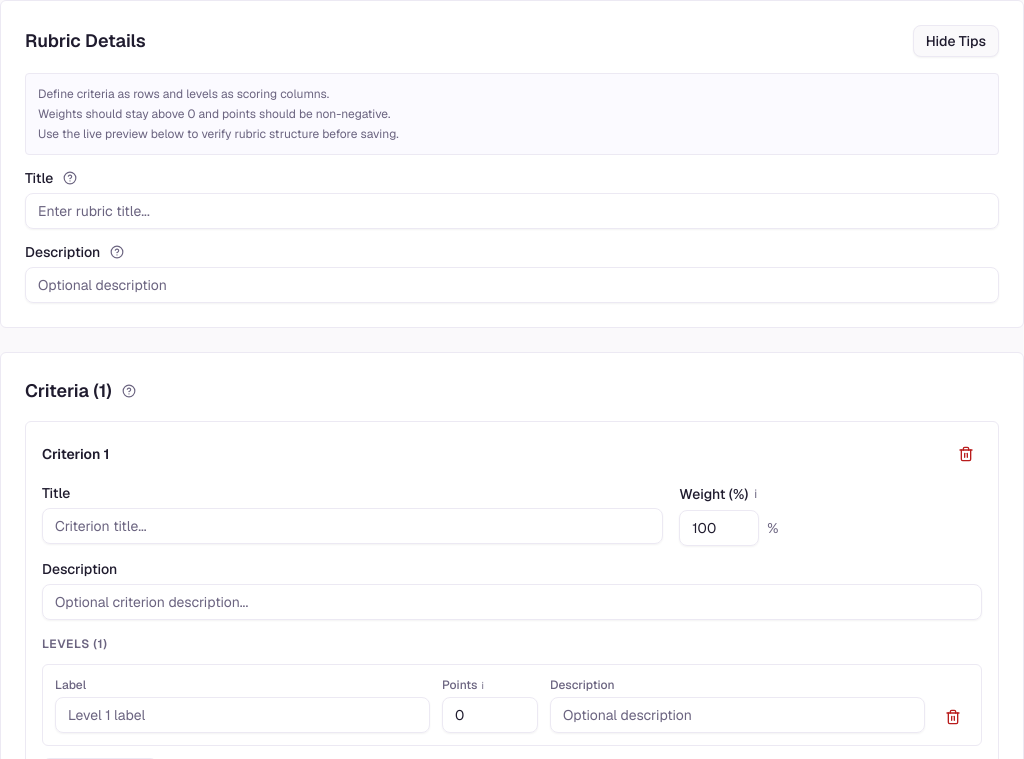
Test: RubricBuilderForm › create mode › validates that at least one criterion exists
The image size is (1024, 759).
Type "My Rubric" into the field labelled "Title" at (512, 211), box left=25, top=193, right=999, bottom=229
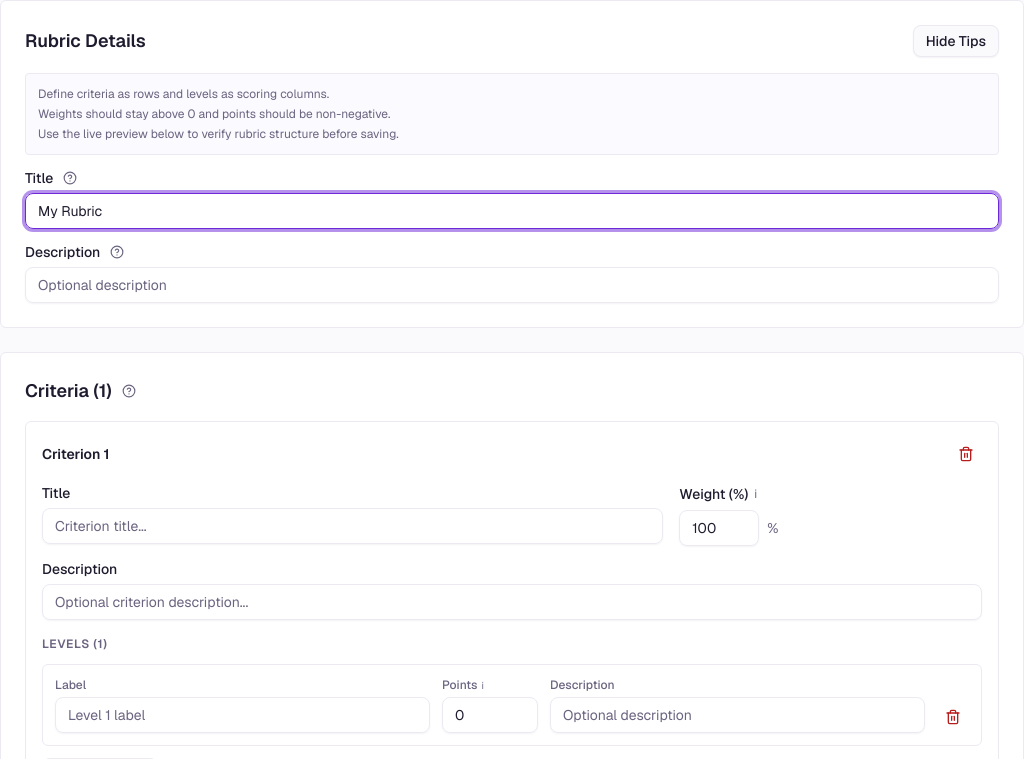
Click the 5th button at (966, 454), box left=950, top=438, right=982, bottom=470
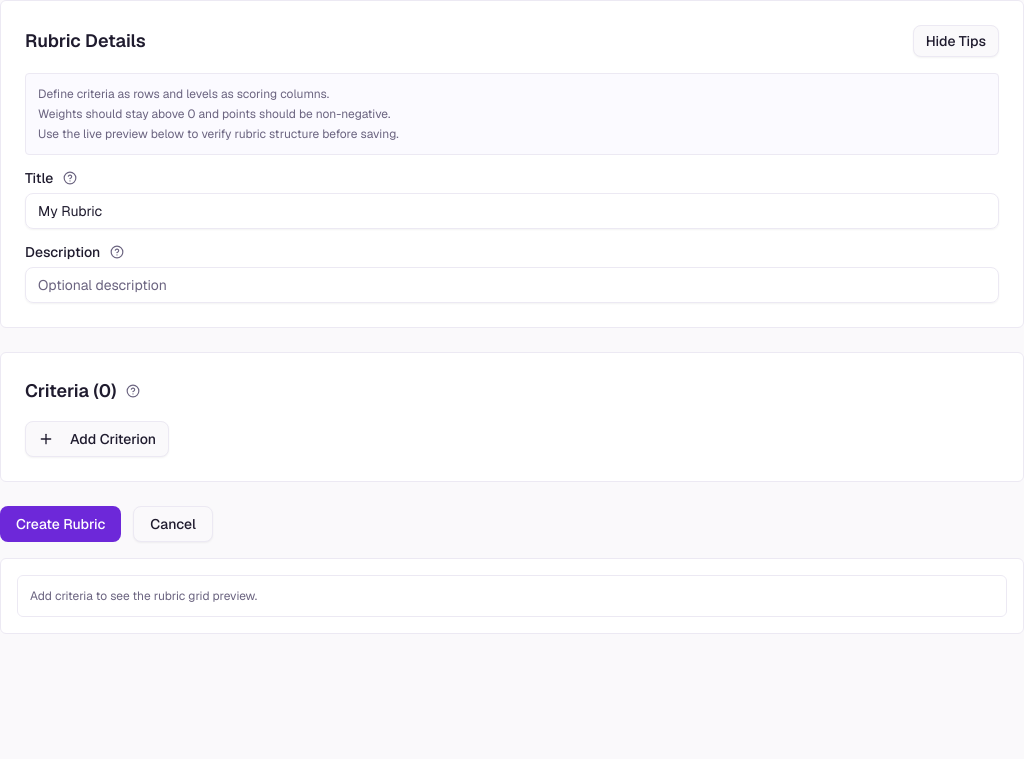
Submit the form
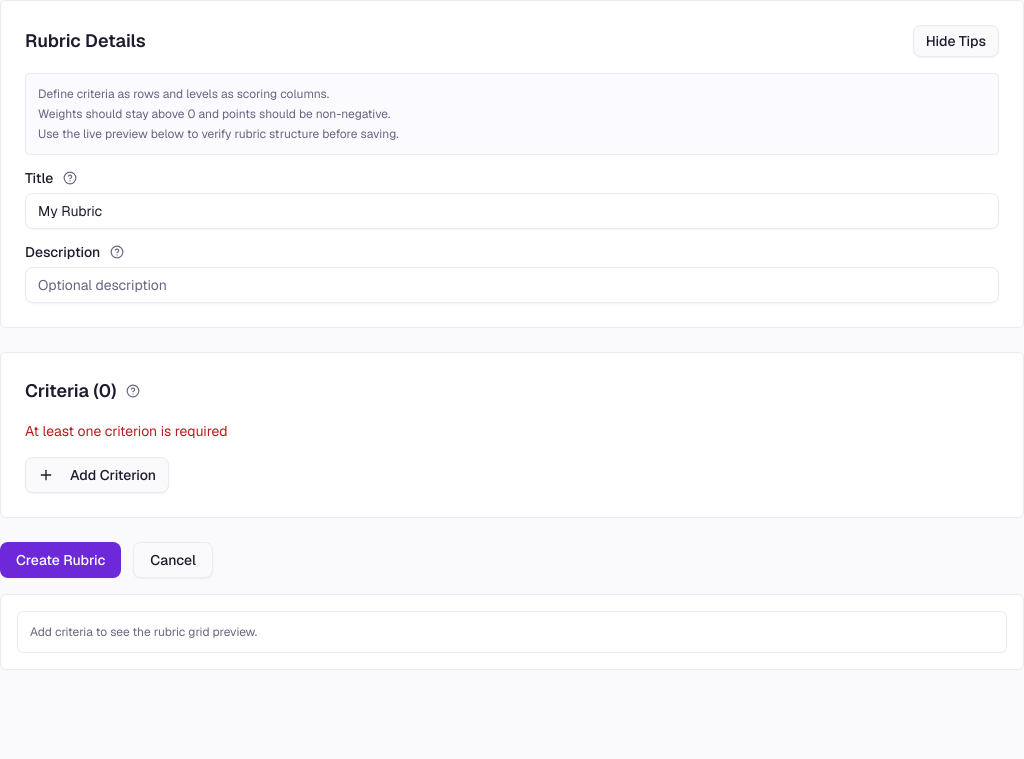
Result: the text "At least one criterion is required" is shown at left=25, top=422, right=228, bottom=440
